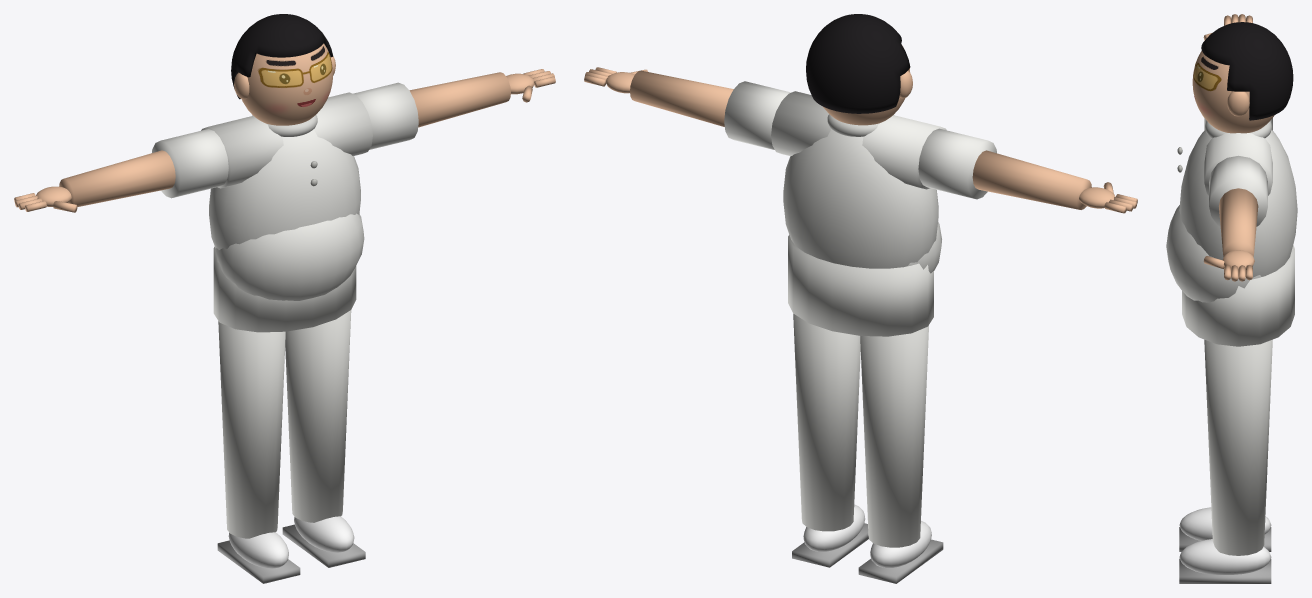
The model's file is hero_for_mixamo.fbx.
3 views of the same model, side by side, from view 1: azimuth 30°, elevation 25°; view 2: azimuth 150°, elevation 25°; view 3: azimuth 270°, elevation 25° (orthographic). The views are drawn at different scales.
Visible parts, largest first — view 1: Hero; view 2: Hero; view 3: Hero.
Part boxes in pixels (x1,y1,x2,y2): Hero: [14, 14, 555, 583]; Hero: [584, 14, 1137, 583]; Hero: [1166, 14, 1297, 583].
Size of the model in its own units: 1.88 by 1.79 by 0.4.
1 material, 1 textured.
